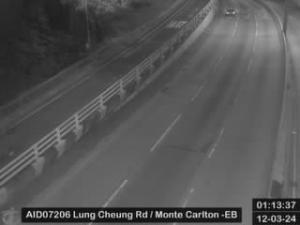truck: (0, 118, 20, 160)
vehicle: (224, 8, 238, 16)
